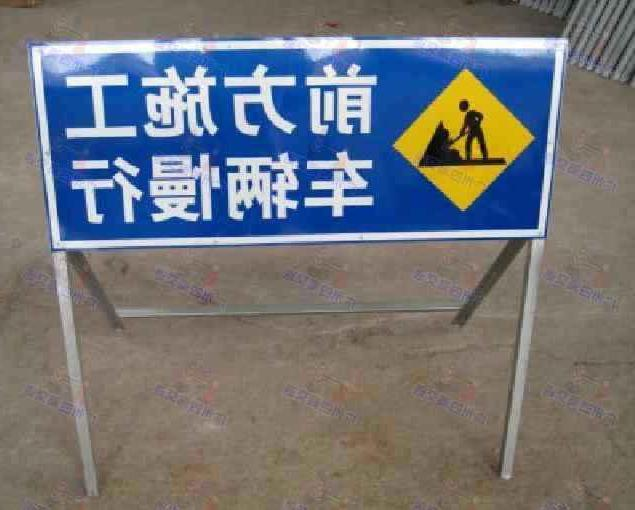sign: (29, 36, 570, 249)
